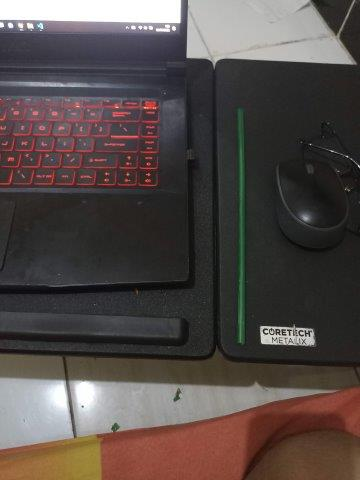sedotan: (236, 108, 245, 343)
